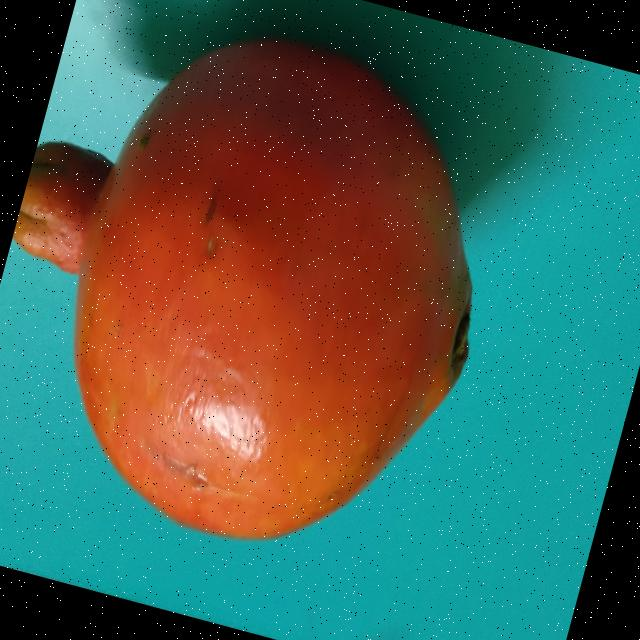Good_Pomegranate-50-60-days: (11, 39, 468, 539)
